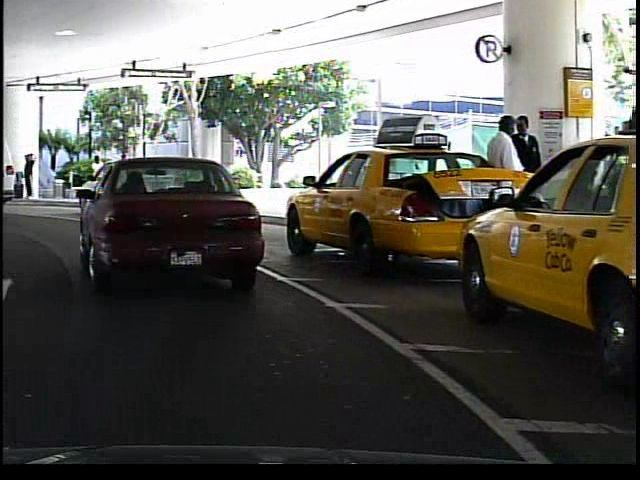person: (481, 110, 523, 245), (508, 112, 550, 242), (83, 152, 108, 197), (18, 144, 37, 203)
